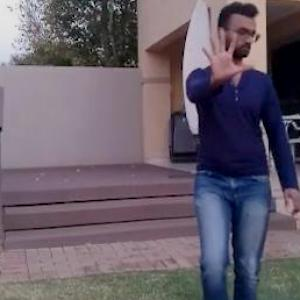follow_hand: (198, 24, 252, 84)
